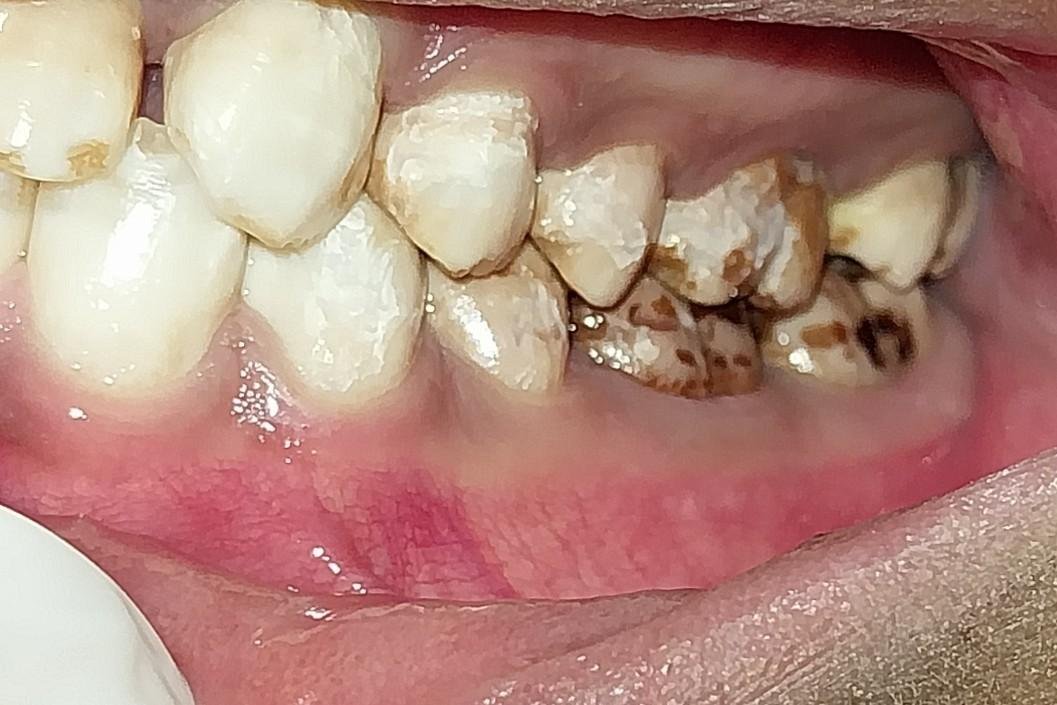D: (652, 147, 828, 307), (582, 273, 764, 400), (776, 265, 934, 387)
